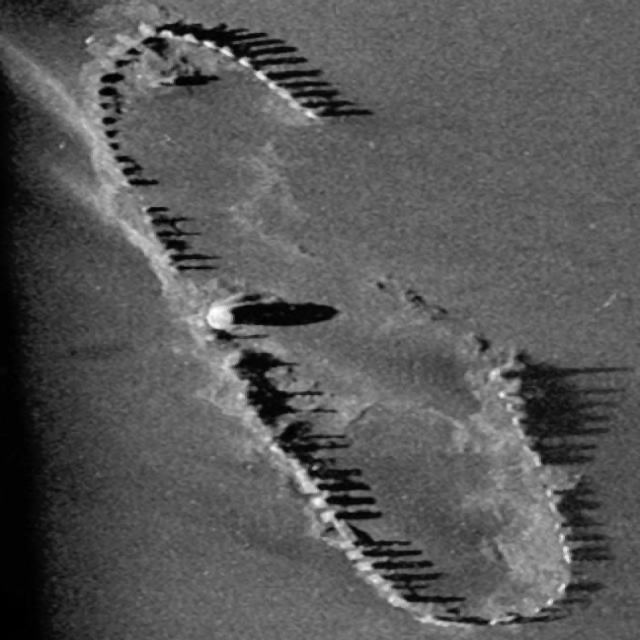Ship: (64, 15, 622, 637)
